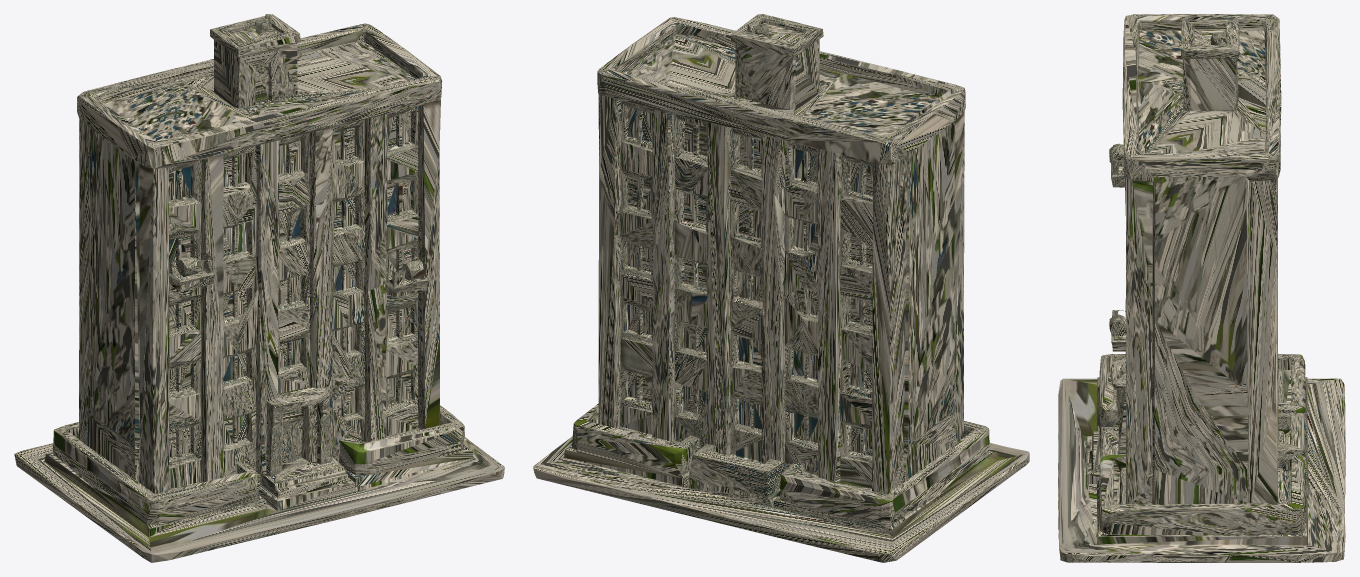
File: town_flats_grey.glb
3 views of the same model, side by side, from view 1: azimuth 30°, elevation 25°; view 2: azimuth 150°, elevation 25°; view 3: azimuth 270°, elevation 25° (orthographic).
Parts seen in each view (by area): view 1: normalize; view 2: normalize; view 3: normalize.
Boxes of the visible parts, bbox=[...] form: normalize: bbox=[14, 14, 504, 562]; normalize: bbox=[533, 14, 1029, 562]; normalize: bbox=[1058, 14, 1345, 562].
Size of the model in its own units: 1 by 1.18 by 0.6856.
1 material, 1 textured.
